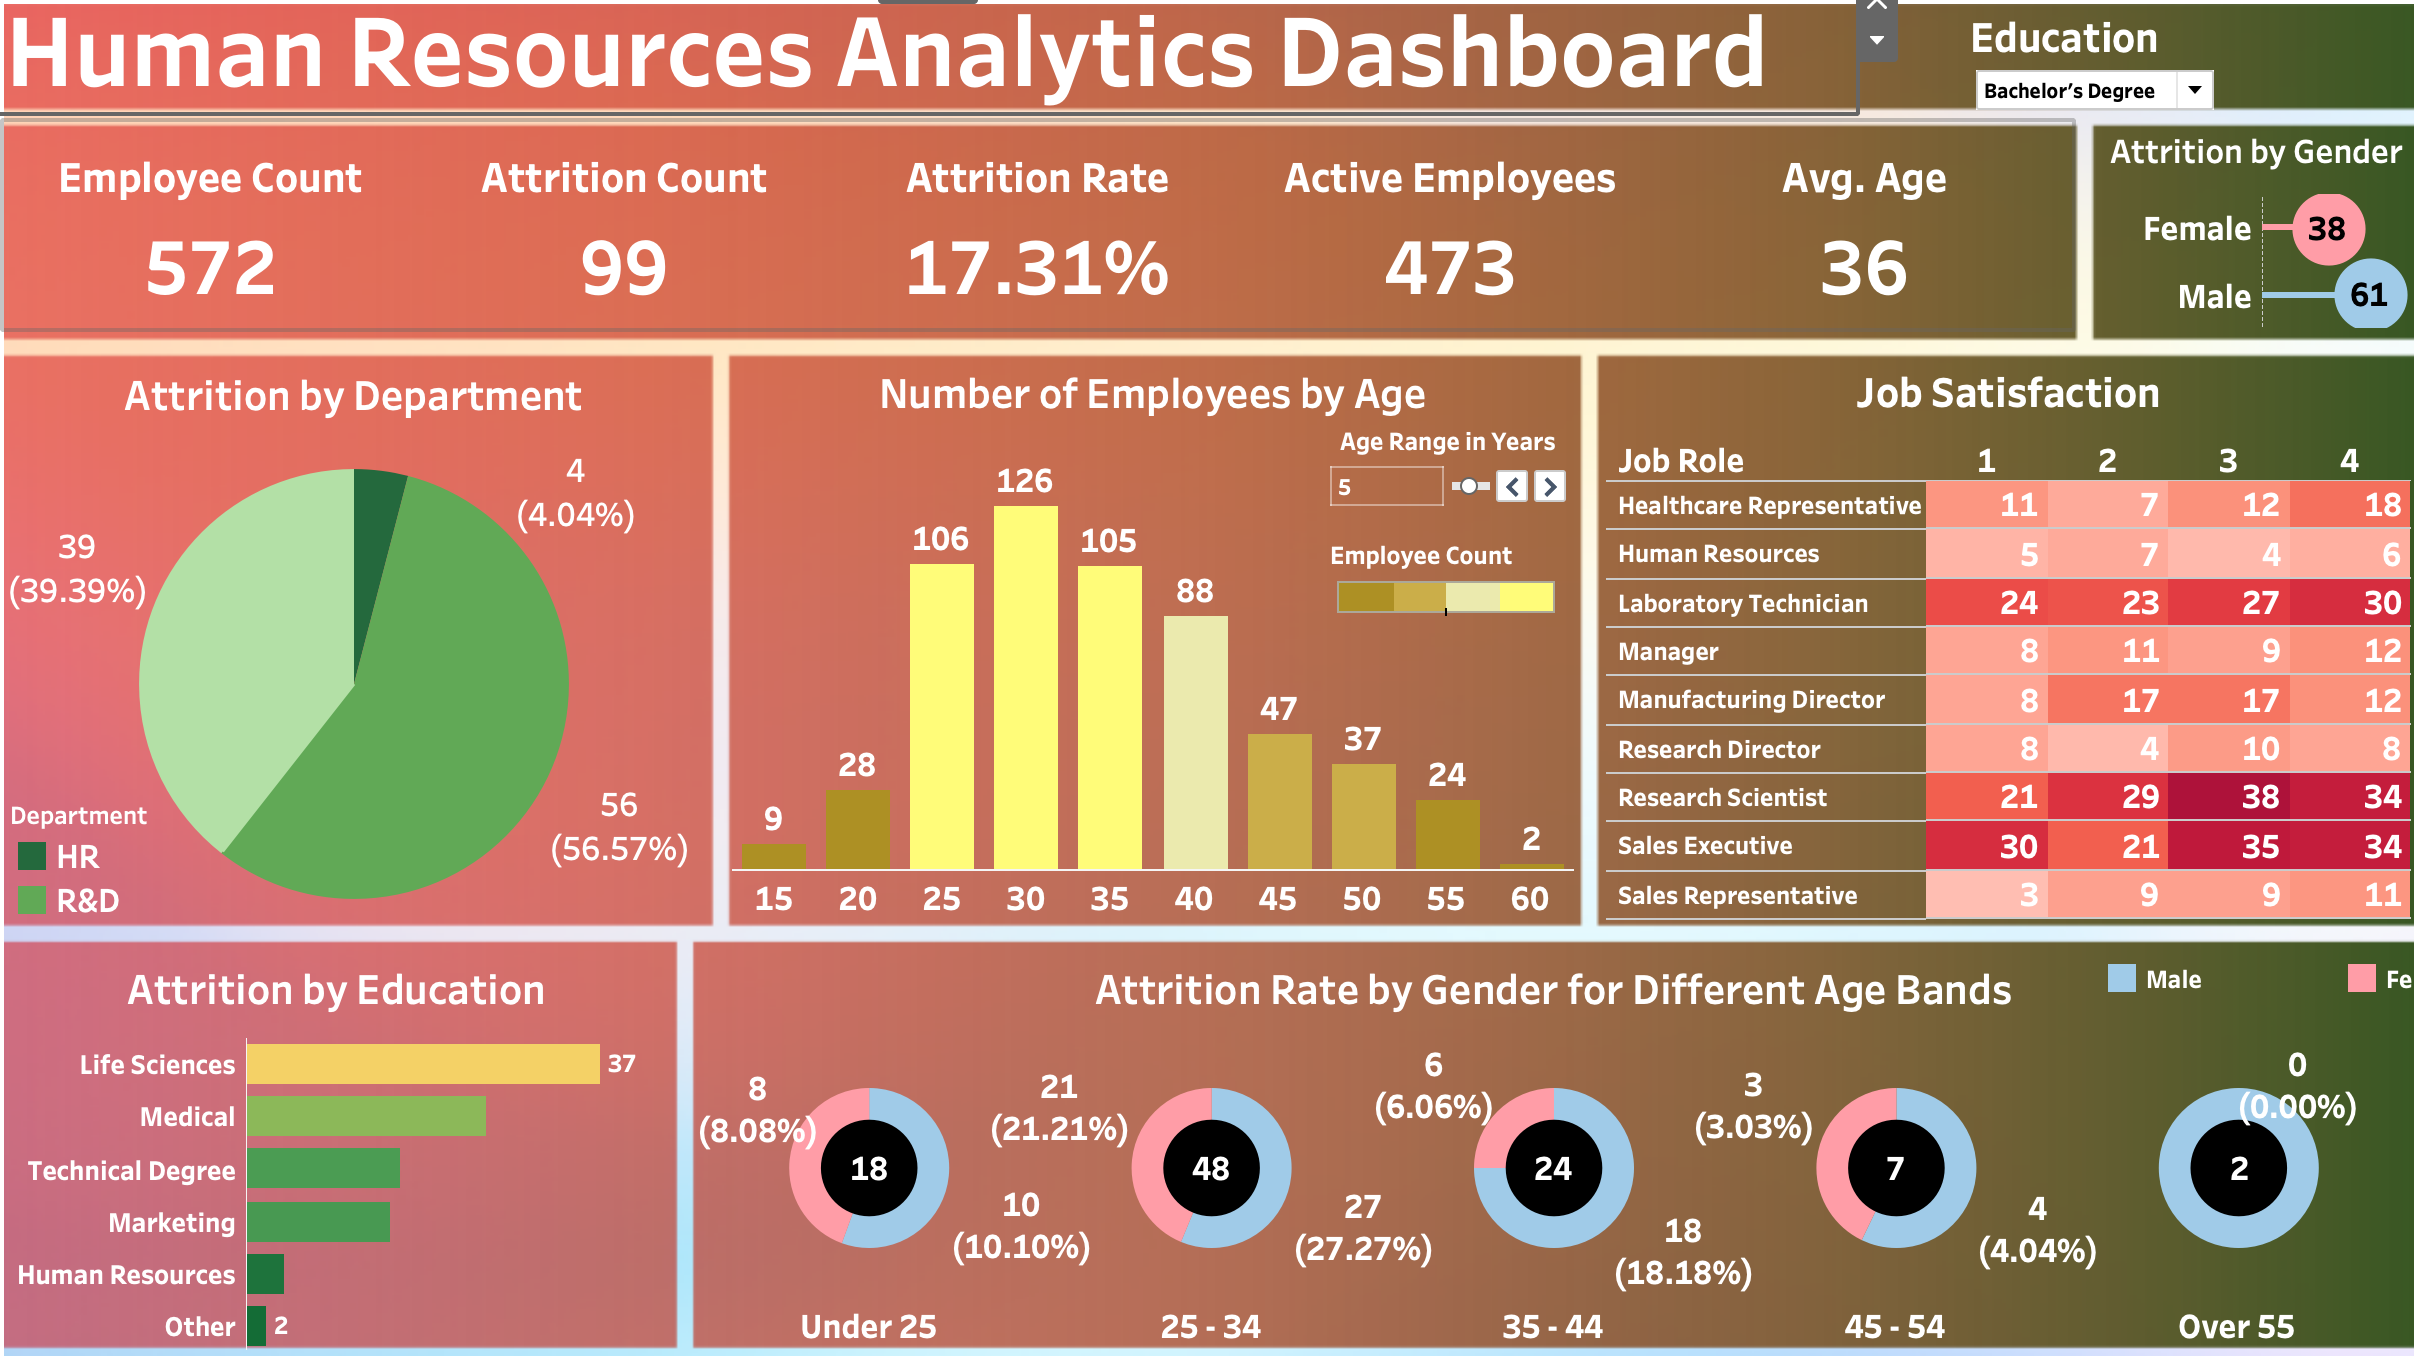

The page's visual inventory and layout, read from the dashboard file:
{"tool":"tableau","page":{"name":"Human Resources Dashboard","canvas":[1580,900],"ordinal":0},"visuals":[{"type":"image","param":"/Users/chrisgaruba/Documents/PROJECTS/ORIGINAL PROJECT DATA/Data Analyst Portfol","box":[8,8,1564,884]},{"type":"text","box":[13,12,892,67]},{"type":"filter","title":"Attrition by Department","param":"[federated.16fzf2y1m25ecy1cqt7hm1aib45q].[none:Education:nk]","box":[1219,18,160,138]},{"type":"worksheet","title":"Attrition by Gender","mark":"Automatic","rows":["Gender"],"cols":["Calculation_1640436225959071744","Calculation_1640436225959071744"],"box":[1364,93,201,132]},{"type":"worksheet","title":"KPI","mark":"Automatic","box":[16,94,1329,131]},{"type":"worksheet","title":"Number of Employees by Age","mark":"Automatic","rows":["Employee Count"],"cols":["Age (bin)"],"box":[484,243,541,360]},{"type":"worksheet","title":"Job Satisfaction","mark":"Square","rows":["Job Role"],"cols":["Job Satisfaction"],"box":[1045,243,518,359]},{"type":"worksheet","title":"Attrition by Department","mark":"Pie","box":[14,244,453,360]},{"type":"parameter","param":"[Parameters].[Parameter 1]","box":[864,287,160,67]},{"type":"legend","title":"Number of Employees by Age","param":"[federated.16fzf2y1m25ecy1cqt7hm1aib45q].[sum:Employee Count:qk]","box":[868,359,150,52]},{"type":"legend","title":"Attrition by Department","param":"[federated.16fzf2y1m25ecy1cqt7hm1aib45q].[none:Department:nk]","box":[19,525,140,78]},{"type":"worksheet","title":"Attrition by Education","mark":"Automatic","rows":["Education Field"],"cols":["Calculation_1640436225959071744"],"box":[17,622,425,254]},{"type":"worksheet","title":"Attrition Rate by Gender for Different Age Bands","mark":"Pie","rows":["Calculation_1640436226023108614","Calculation_1640436226023129096"],"cols":["CF_age band"],"box":[462,622,1101,253]}]}

Visuals, with their boxes in screenshot pixels (x1, y1, x2, y2), scaled from the page's 1580x900 canvas onto the 2418x1356 screenshot:
image: <bbox>12, 12, 2406, 1344</bbox>
text: <bbox>20, 18, 1385, 119</bbox>
"Attrition by Department" filter: <bbox>1866, 27, 2110, 235</bbox>
"Attrition by Gender" worksheet: <bbox>2087, 140, 2395, 339</bbox>
"KPI" worksheet: <bbox>24, 142, 2058, 339</bbox>
"Number of Employees by Age" worksheet: <bbox>741, 366, 1569, 909</bbox>
"Job Satisfaction" worksheet (Square marks): <bbox>1599, 366, 2392, 907</bbox>
"Attrition by Department" worksheet (Pie marks): <bbox>21, 368, 715, 910</bbox>
parameter: <bbox>1322, 432, 1567, 533</bbox>
"Number of Employees by Age" legend: <bbox>1328, 541, 1558, 619</bbox>
"Attrition by Department" legend: <bbox>29, 791, 243, 909</bbox>
"Attrition by Education" worksheet: <bbox>26, 937, 676, 1320</bbox>
"Attrition Rate by Gender for Different Age Bands" worksheet (Pie marks): <bbox>707, 937, 2392, 1318</bbox>
